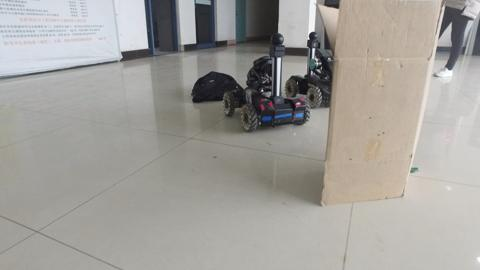box: (331, 1, 427, 209)
chariot: (224, 36, 311, 127), (289, 31, 332, 109)
